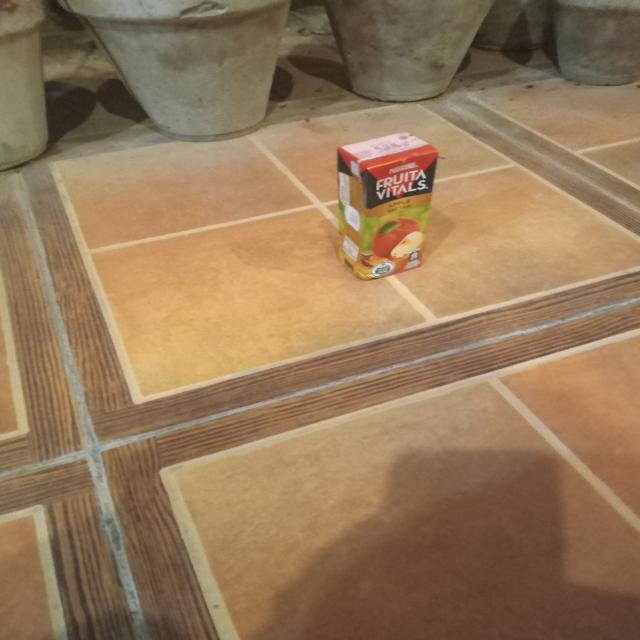Plastic: (328, 128, 449, 284)
